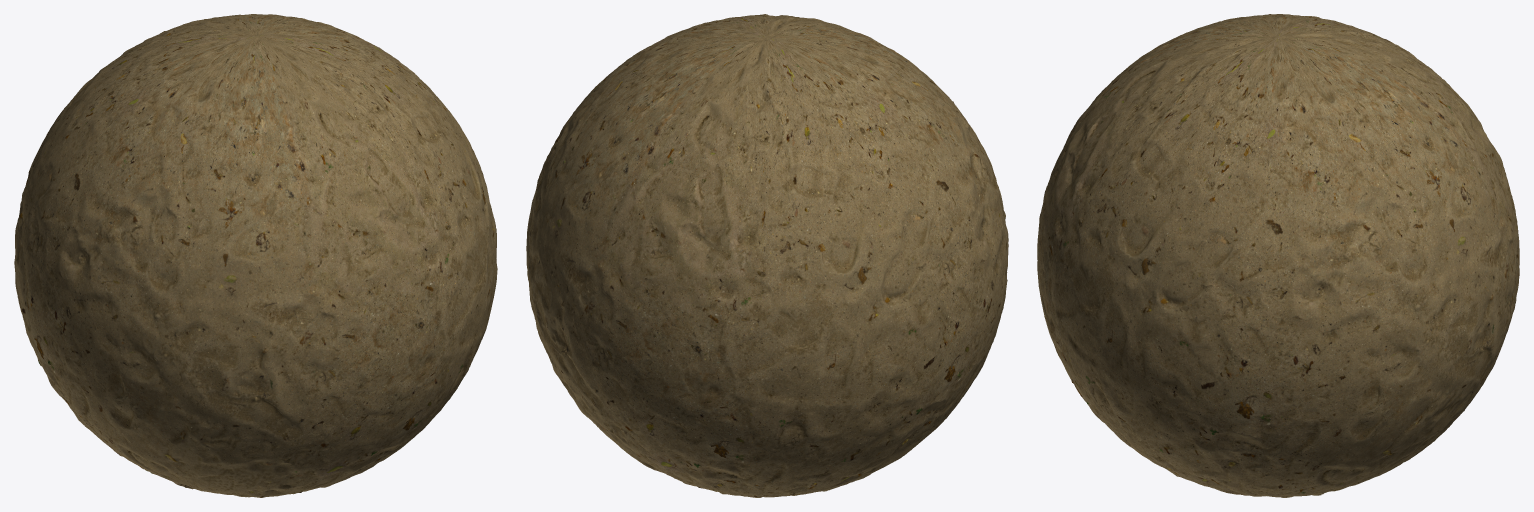
The model's file is playground_sand_2k.gltf.
The picture shows the model from 3 angles, left to right: view 1: azimuth 30°, elevation 25°; view 2: azimuth 150°, elevation 25°; view 3: azimuth 270°, elevation 25°; orthographic projection.
Parts seen in each view (by area): view 1: sphere_gltf; view 2: sphere_gltf; view 3: sphere_gltf.
Boxes of the visible parts, x1,y1,x2,y2 form: sphere_gltf: [14, 14, 497, 497]; sphere_gltf: [526, 14, 1008, 497]; sphere_gltf: [1037, 14, 1519, 497].
Bounding box in the file's own units: 2.09 × 2.09 × 2.08.
1 material, 1 textured.
